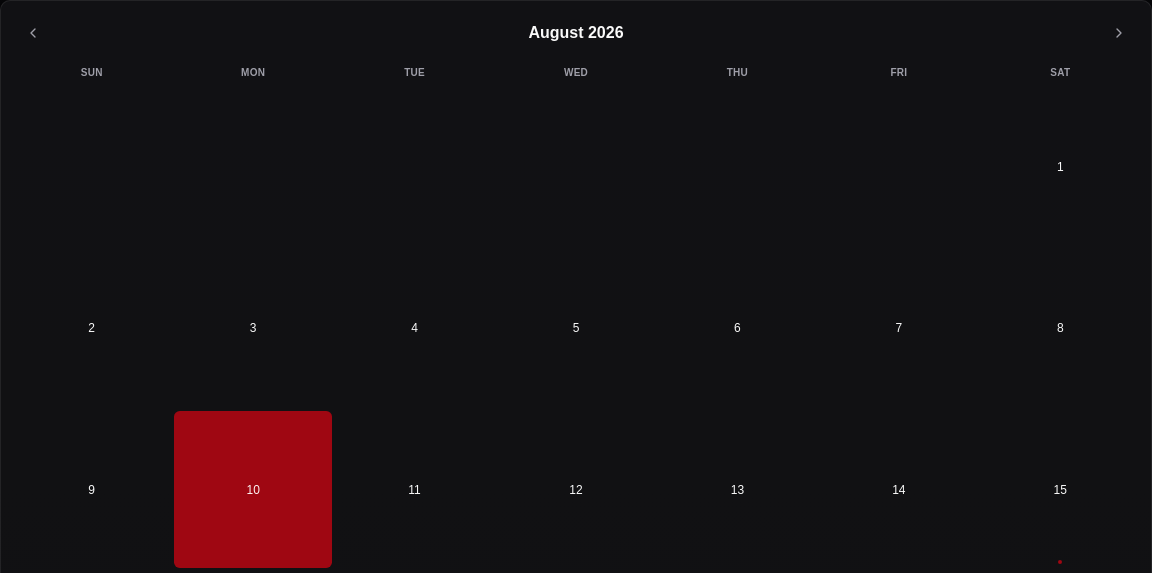
Scenario: MiniCalendar › shows planned titles for the selected day
Expected: the heading "planned for august 15" is not shown
Step 1. Click the button named "August 15, 2026, 1 planned item" → (1060, 490), box [982,411,1139,568]
(page scrolled)
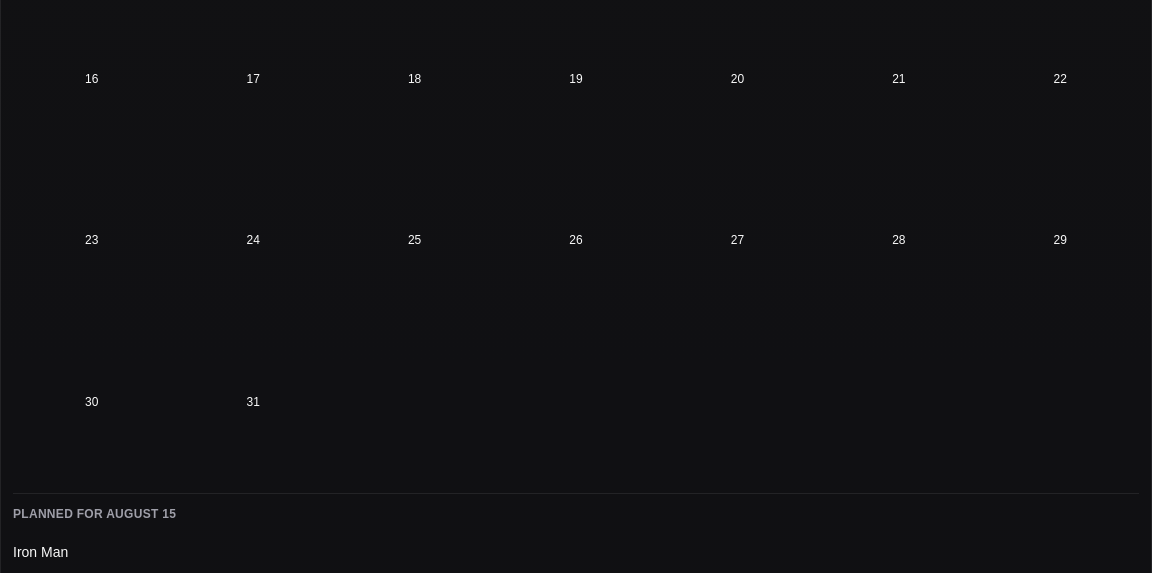
Expected: the heading "Planned for August 15" is shown, [13,507,176,521]
Expected: the text "Iron Man" is shown, [13,542,68,562]
